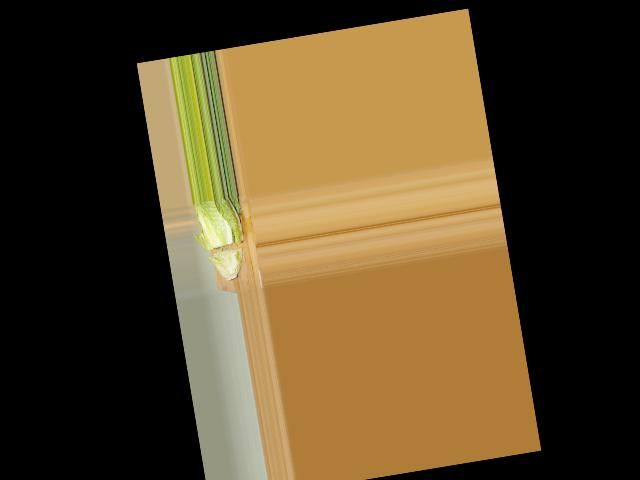lettuce: (191, 196, 255, 283)
